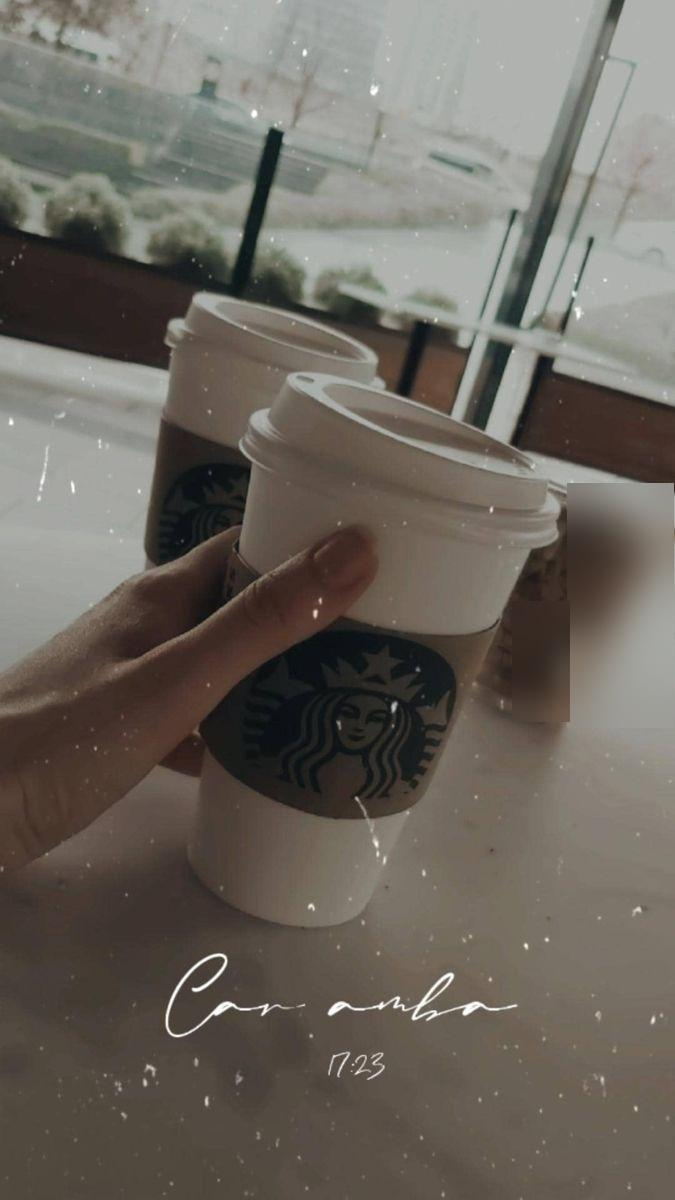cup-disposable: (202, 365, 561, 928), (63, 291, 381, 774)
